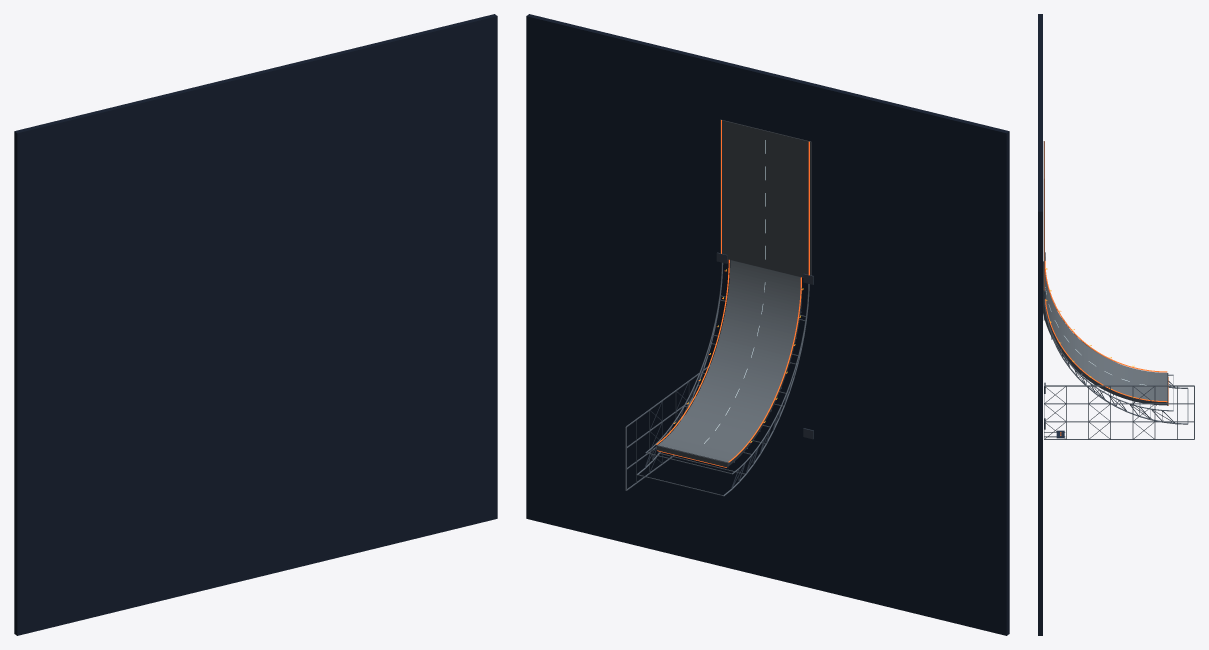
The model's file is vertical-ramp.glb.
3 renders of one model, left to right at view 1: azimuth 30°, elevation 25°; view 2: azimuth 150°, elevation 25°; view 3: azimuth 270°, elevation 25°, orthographic. The views are drawn at different scales.
Parts seen in each view (by area): view 1: Test-range ground; view 2: Test-range ground, RAMP / thick quarter-pipe shell, Ramp approach slab; view 3: RAMP / thick quarter-pipe shell, Test-range ground, Right outer curved truss chord, Ramp approach slab, Reference tower vertical 03, Reference tower vertical 01, Reference tower vertical 02, Left warm edge rail, Right warm edge rail, Right inner curved truss chord.
Part boxes in pixels (left/top/right/bottom): Test-range ground: left=14, top=14, right=497, bottom=635; Test-range ground: left=526, top=14, right=1009, bottom=635; RAMP / thick quarter-pipe shell: left=657, top=260, right=801, bottom=466; Ramp approach slab: left=720, top=119, right=811, bottom=277; RAMP / thick quarter-pipe shell: left=1043, top=261, right=1167, bottom=405; Test-range ground: left=1038, top=14, right=1042, bottom=635; Right outer curved truss chord: left=1043, top=295, right=1187, bottom=424; Ramp approach slab: left=1043, top=141, right=1044, bottom=294; Reference tower vertical 03: left=1044, top=385, right=1194, bottom=386; Reference tower vertical 01: left=1044, top=421, right=1193, bottom=422; Reference tower vertical 02: left=1044, top=403, right=1193, bottom=404; Left warm edge rail: left=1045, top=261, right=1167, bottom=372; Right warm edge rail: left=1045, top=299, right=1167, bottom=402; Right inner curved truss chord: left=1046, top=314, right=1173, bottom=411.
Size of the model in its own units: 95 by 95 by 31.84.
